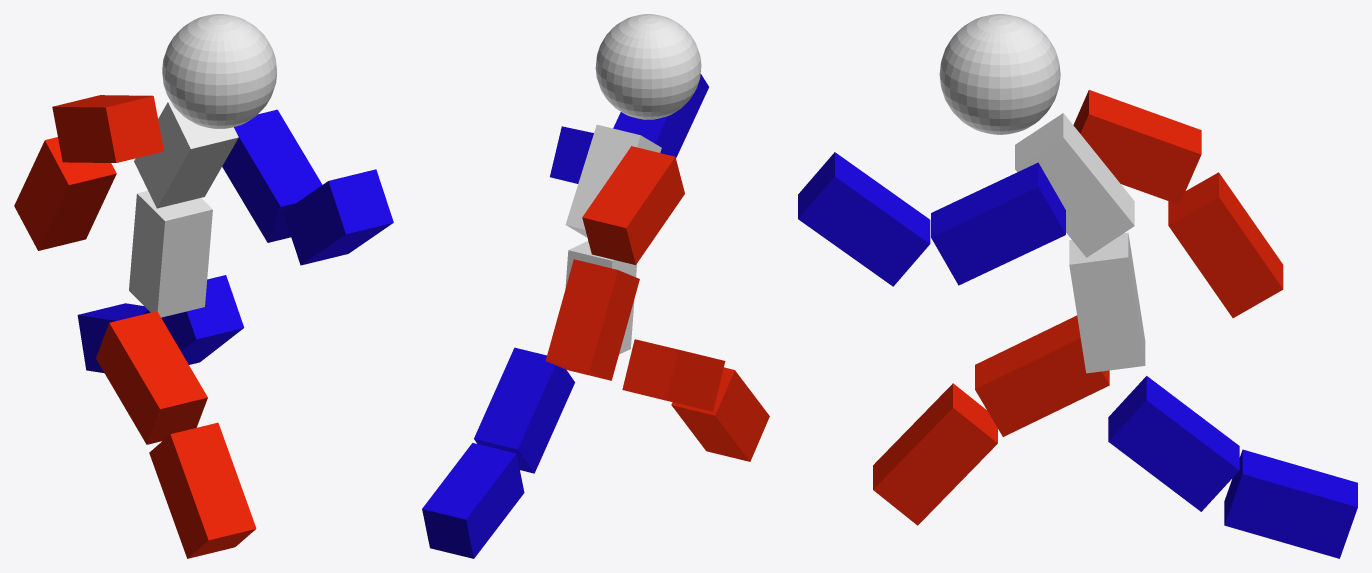
File: stickman.glb
3 renders of one model, left to right at view 1: azimuth 30°, elevation 25°; view 2: azimuth 150°, elevation 25°; view 3: azimuth 270°, elevation 25°, orthographic. The views are drawn at different scales.
Visible parts, largest first — view 1: Sphere, Cube, Cube.003, Cube.004, Cube.007, Cube.008, Cube.009, Cube.006, Cube.005, Cube.002, Cube.001; view 2: Sphere, Cube.006, Cube.001, Cube.008, Cube.002, Cube.003, Cube, Cube.005, Cube.009, Cube.007, Cube.004; view 3: Sphere, Cube.007, Cube.001, Cube.009, Cube.002, Cube, Cube.008, Cube.003, Cube.006, Cube.005, Cube.004.
Part boxes in pixels (bbox=[...]): Sphere: bbox=[162, 14, 276, 128]; Cube: bbox=[149, 422, 256, 558]; Cube.003: bbox=[96, 311, 207, 444]; Cube.004: bbox=[129, 190, 212, 317]; Cube.007: bbox=[222, 109, 322, 242]; Cube.008: bbox=[14, 137, 116, 250]; Cube.009: bbox=[283, 169, 393, 265]; Cube.006: bbox=[52, 95, 163, 162]; Cube.005: bbox=[134, 101, 238, 208]; Cube.002: bbox=[142, 275, 244, 364]; Cube.001: bbox=[77, 303, 147, 373]; Sphere: bbox=[595, 14, 701, 119]; Cube.006: bbox=[582, 146, 684, 264]; Cube.001: bbox=[422, 443, 524, 558]; Cube.008: bbox=[545, 259, 639, 380]; Cube.002: bbox=[474, 347, 574, 473]; Cube.003: bbox=[622, 339, 725, 411]; Cube: bbox=[671, 367, 769, 461]; Cube.005: bbox=[565, 124, 661, 237]; Cube.009: bbox=[613, 74, 708, 157]; Cube.007: bbox=[550, 126, 593, 183]; Cube.004: bbox=[565, 241, 636, 354]; Sphere: bbox=[939, 14, 1060, 134]; Cube.007: bbox=[931, 162, 1065, 285]; Cube.001: bbox=[1224, 449, 1357, 558]; Cube.009: bbox=[798, 152, 930, 286]; Cube.002: bbox=[1108, 376, 1239, 511]; Cube: bbox=[873, 383, 997, 525]; Cube.008: bbox=[1168, 172, 1283, 317]; Cube.003: bbox=[975, 315, 1109, 436]; Cube.006: bbox=[1073, 90, 1201, 204]; Cube.005: bbox=[1015, 113, 1134, 257]; Cube.004: bbox=[1069, 232, 1145, 373].
Size of the model in its own units: 3 by 9.45 by 9.25.
